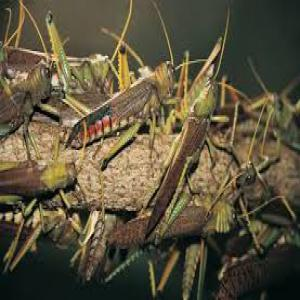locust: (61, 44, 190, 159), (154, 77, 236, 192), (1, 149, 82, 212)
